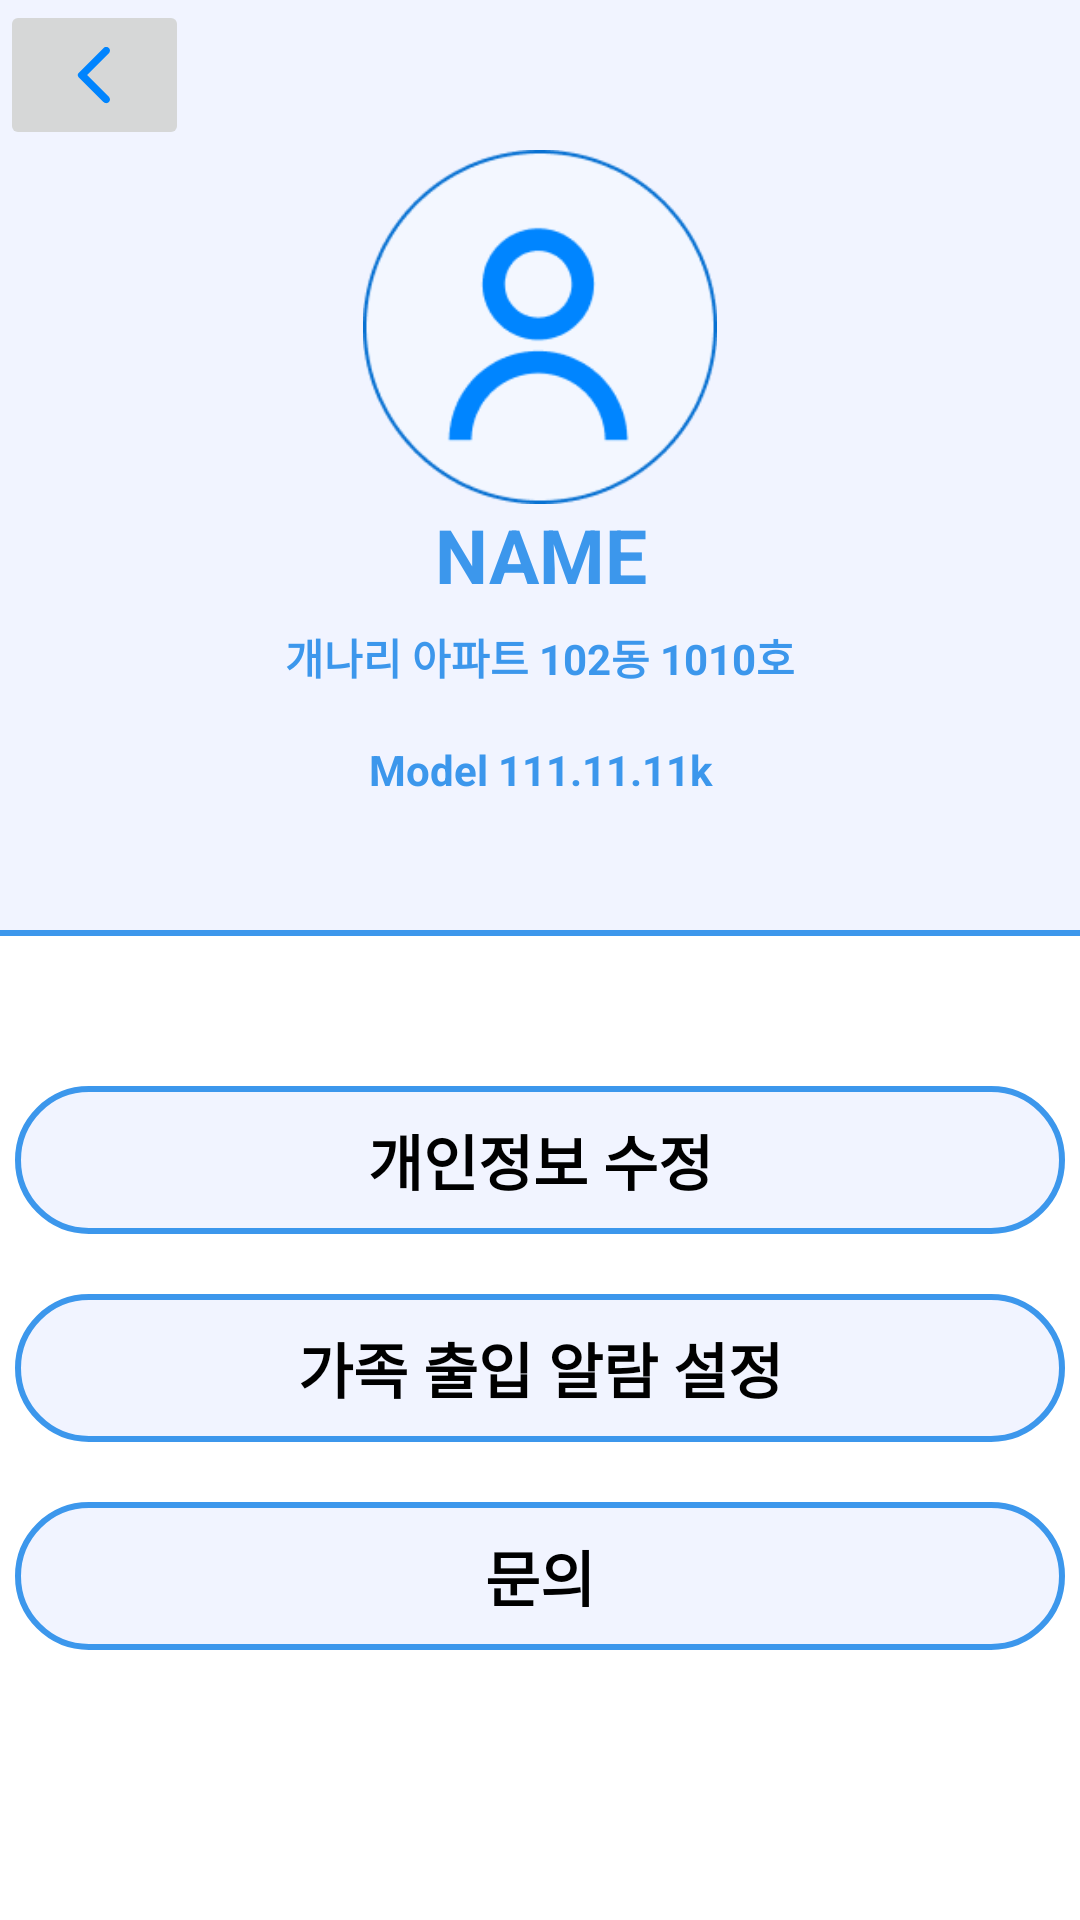

Screen size 1080*1920. Icon name, then its box in pixels as detection(x1, y1, x2, y2):
arrow back: detection(12, 18, 177, 132)
setting person: detection(363, 150, 717, 504)
